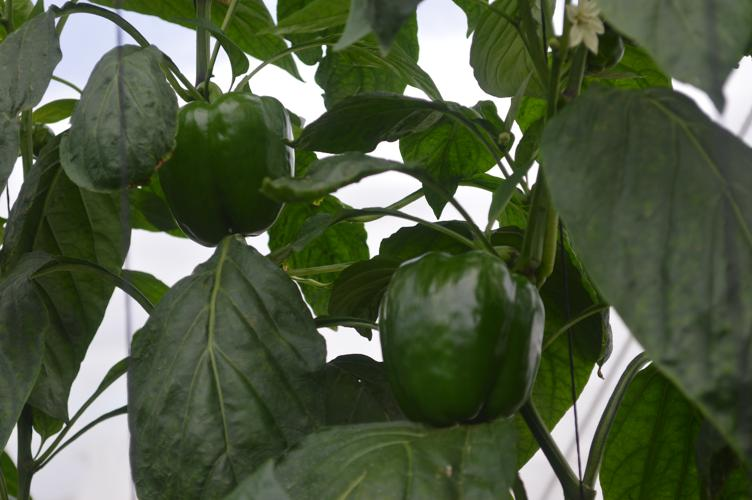BellPepper: (376, 251, 551, 420), (155, 97, 294, 243)
